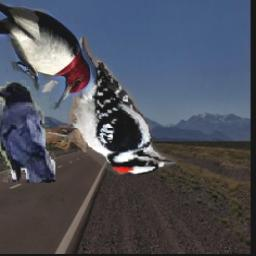Crow: (0, 81, 56, 184)
Woodpecker: (42, 39, 178, 176), (0, 0, 97, 110)
